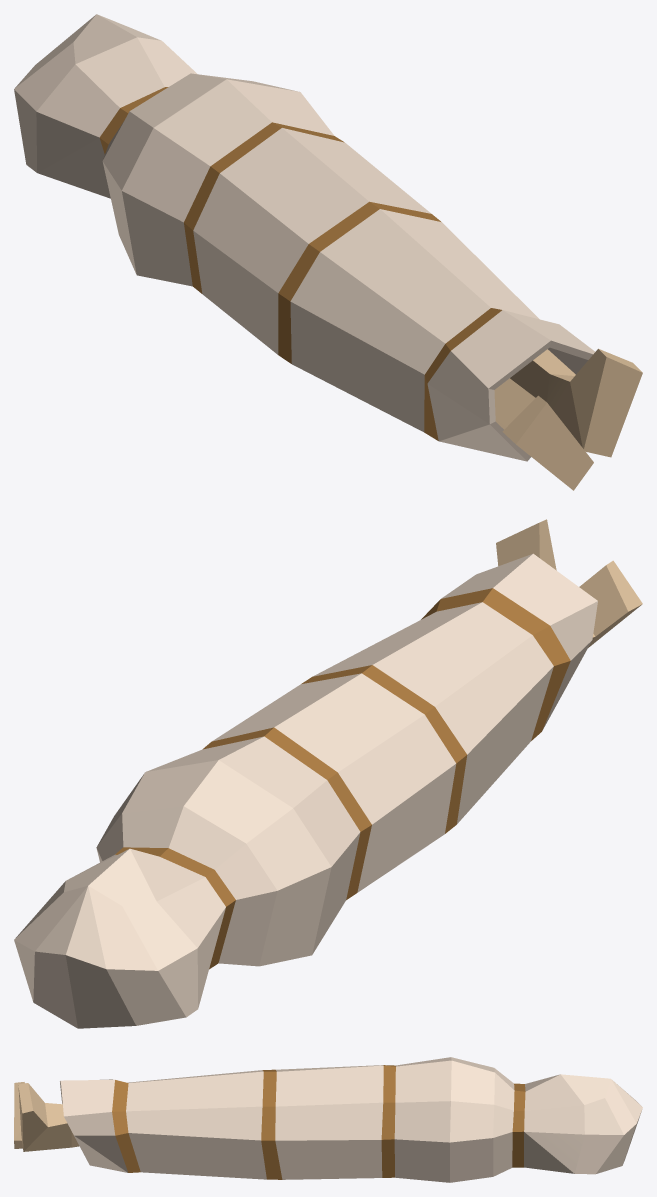
Rendered from apocalypse_body-packed-legs.fbx.
3 views of the same model, one above another, from view 1: azimuth 30°, elevation 25°; view 2: azimuth 150°, elevation 25°; view 3: azimuth 270°, elevation 25° (orthographic). The views are drawn at different scales.
Parts seen in each view (by area): view 1: apocalypse_body_packed_legs; view 2: apocalypse_body_packed_legs; view 3: apocalypse_body_packed_legs.
Boxes of the visible parts, x1,y1,x2,y2 form: apocalypse_body_packed_legs: [14, 14, 642, 490]; apocalypse_body_packed_legs: [14, 519, 642, 1028]; apocalypse_body_packed_legs: [14, 1057, 642, 1182].
Size of the model in its own units: 48.14 by 37.26 by 200.
